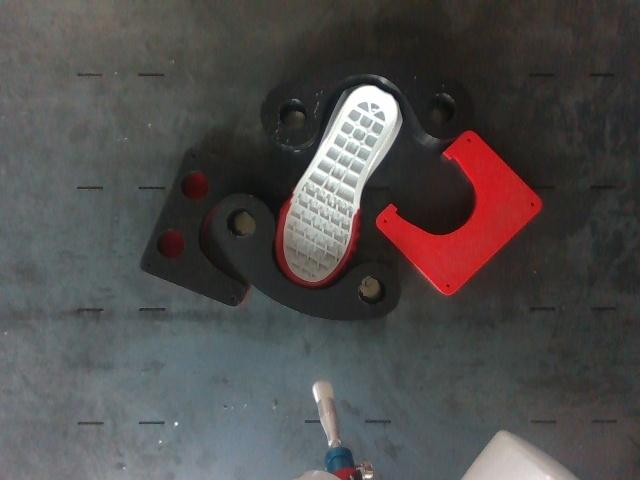shoes: (277, 87, 396, 286)
